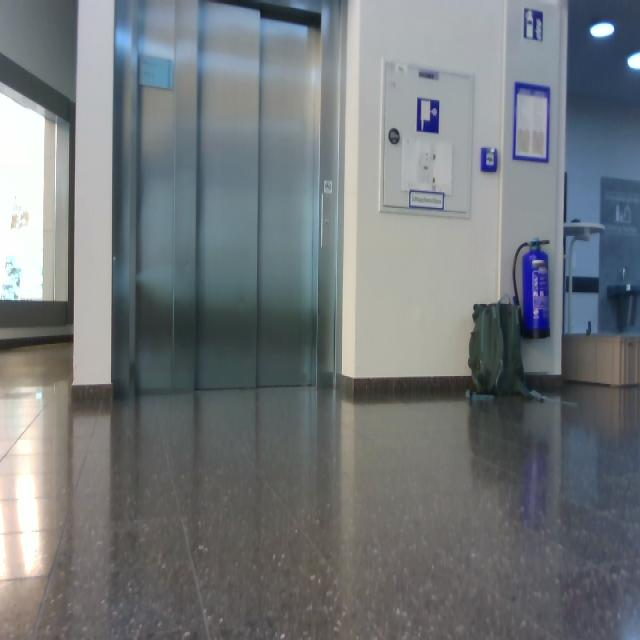door: (112, 1, 342, 396)
fire extinguisher: (513, 238, 551, 340)
light bulb: (11, 196, 30, 230), (590, 21, 615, 38), (627, 51, 640, 71)
tiled floor: (2, 341, 639, 638)
